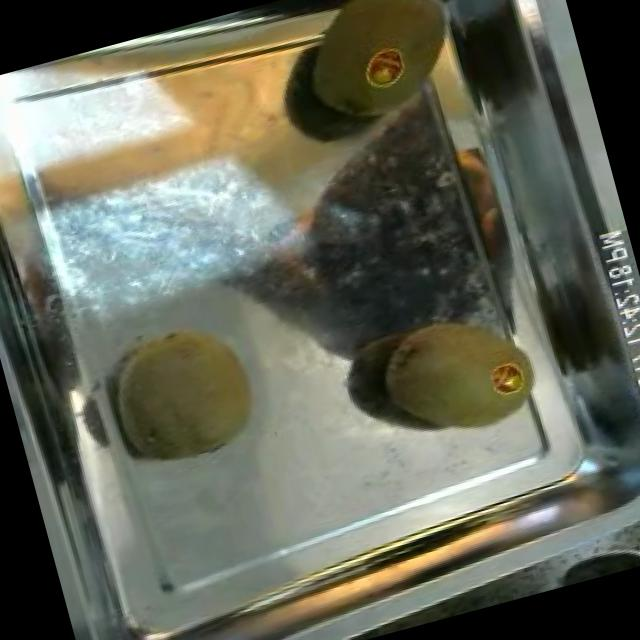Fruit: (86, 298, 279, 486), (354, 284, 546, 464), (271, 0, 479, 145)
